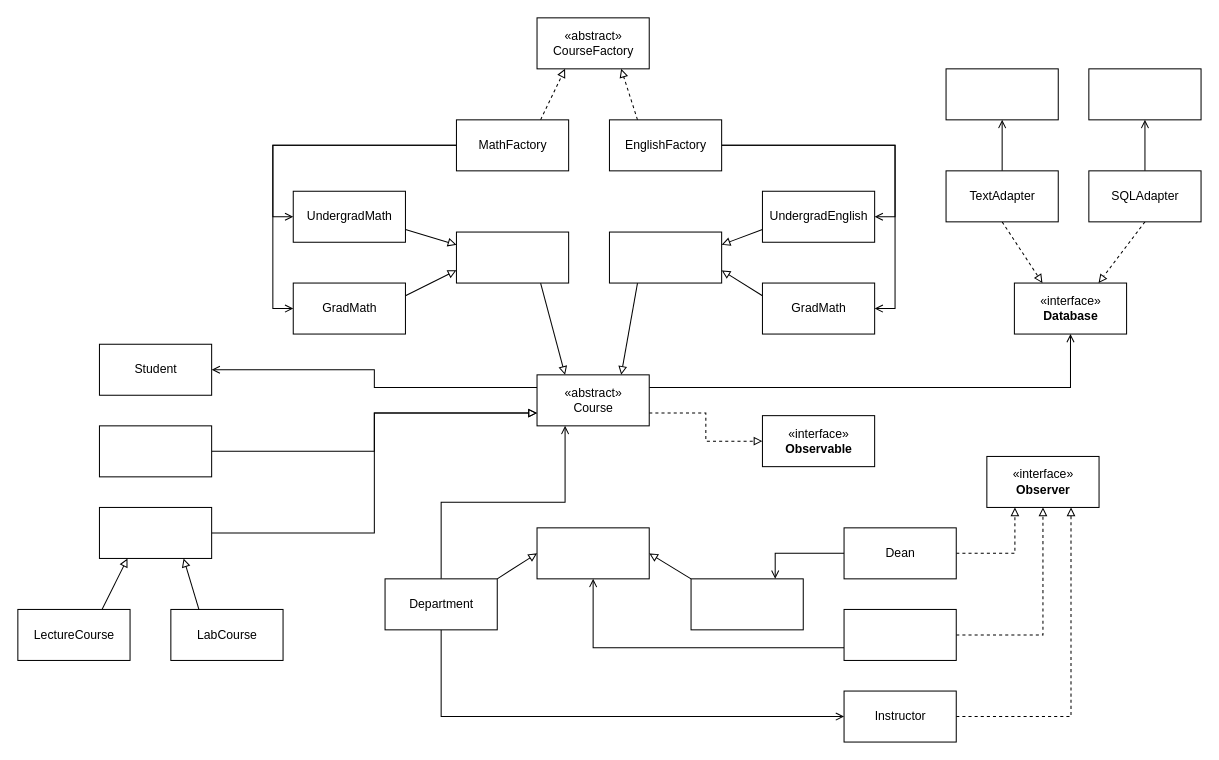
This 1219x760 diagram has some shape labels left out. Here are the shapes that lost their labels. From the top down, the centre of each, then its label:
At [1001,94]: "TextDabase".
At [1144,94]: "SQLDatabase".
At [512,257]: "MathCourse".
At [665,257]: "EnglishCourse".
At [155,451]: "Starter".
At [155,532]: "«abstract» CourseType".
At [592,553]: "«abstract» School".
At [746,604]: "Faculty".
At [899,634]: "Rector".
